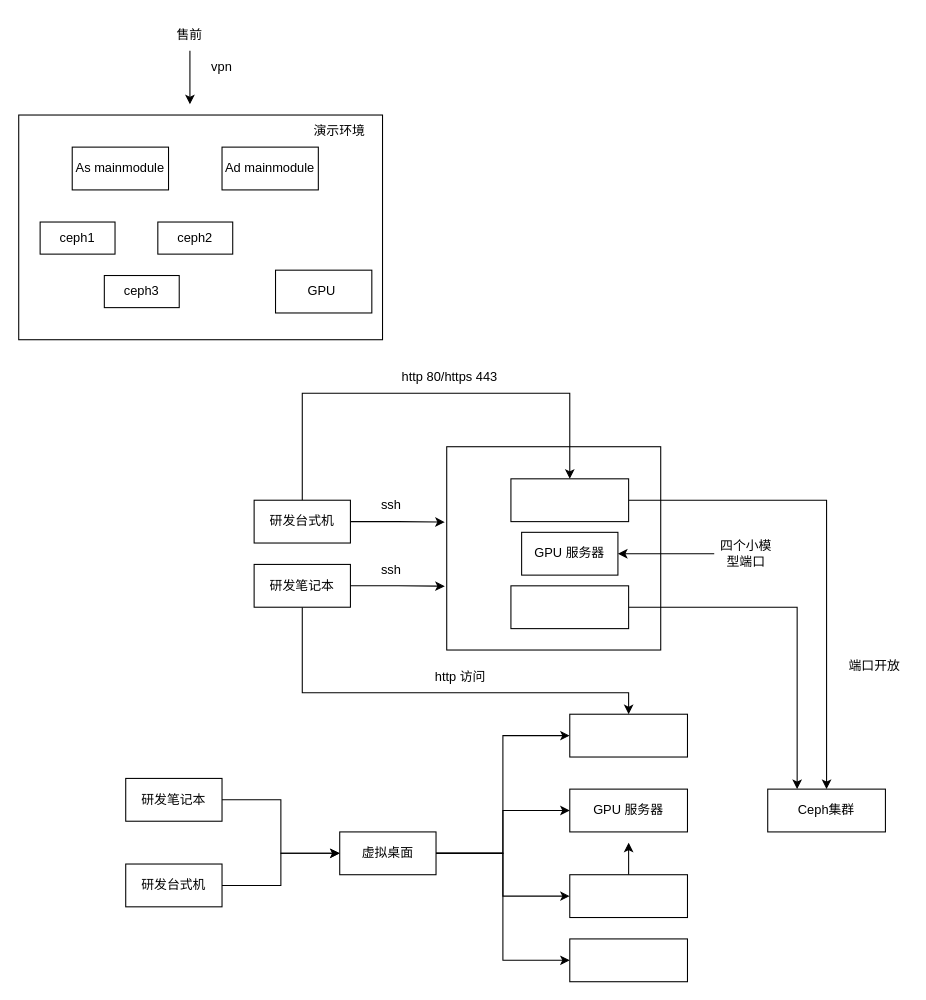
Some shapes in this 926 by 1000 pixel diagram are drawn without their labels. The shapes that lost their labels are listed below. From the top down, each one's centre as x and y in pixels, then its label:
At point (569, 500): "X86 服务器 *2".
At point (569, 607): "arm 服务器 *2".
At point (628, 735): "confluence".
At point (628, 896): "海量虚拟机".
At point (628, 960): "devops".
